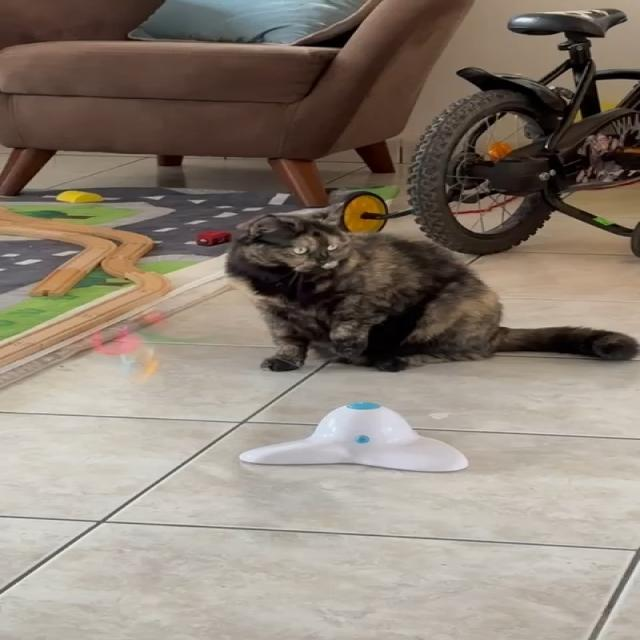authorized: (222, 198, 638, 373)
